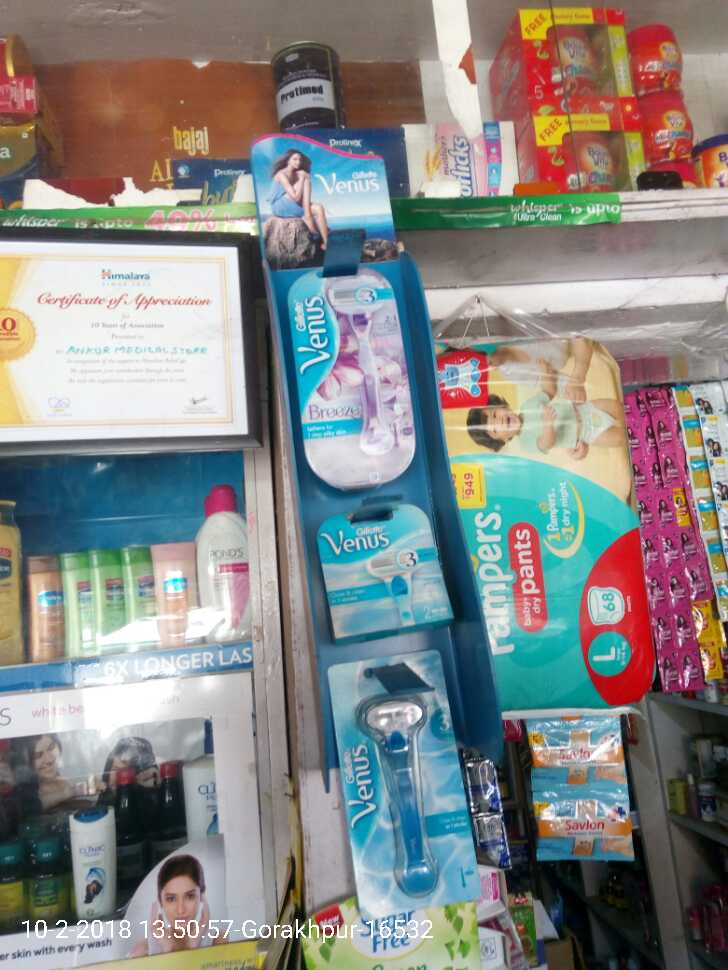beauty: (332, 646, 473, 909), (285, 250, 424, 494), (313, 501, 455, 641)
pharmacy: (432, 329, 655, 703)
